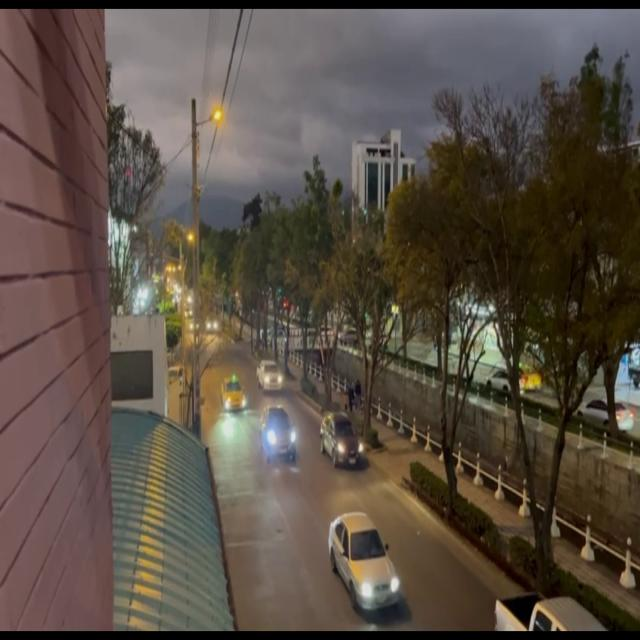CMT: (256, 362, 283, 392)
SED: (334, 519, 398, 608), (222, 379, 244, 409)
SUV: (321, 415, 362, 466), (260, 410, 296, 460)
